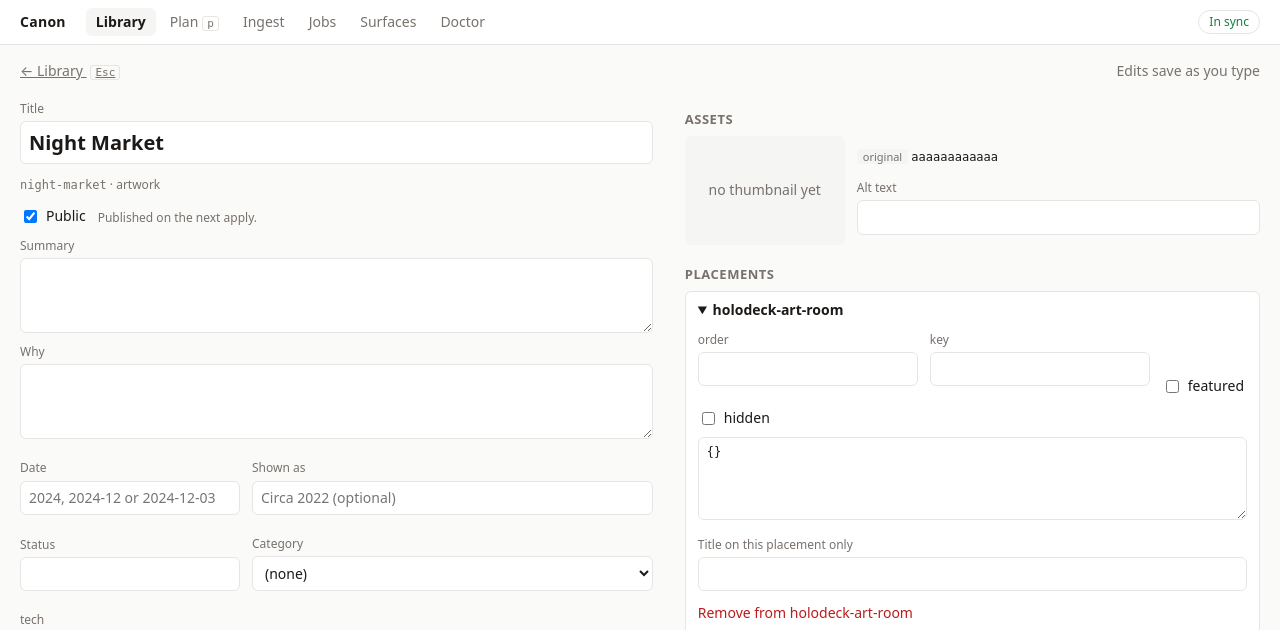
Scenario: Item editor › shows validation problems and saves nothing
Step 1. Type "!" into the field showing "Night Market" → (336, 142), box left=20, top=121, right=653, bottom=164
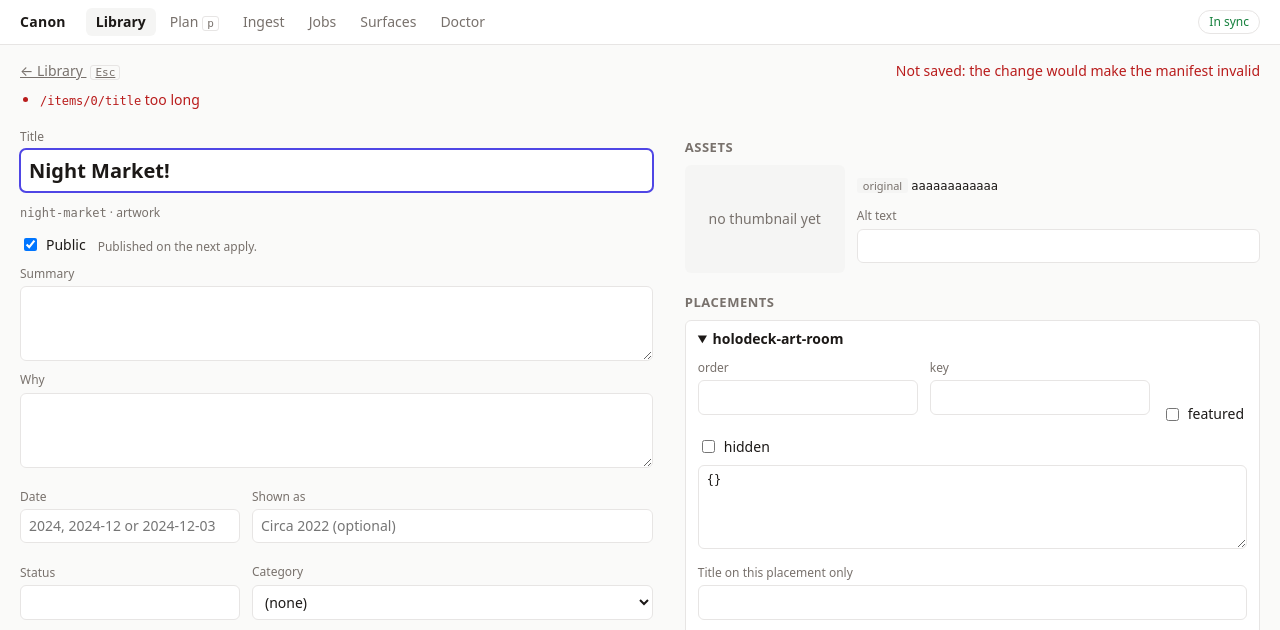
Check: the text "Not saved: the change would make the manifest invalid" is shown, box left=896, top=61, right=1260, bottom=82
Check: the list item "too long" is shown, box left=145, top=90, right=200, bottom=109
